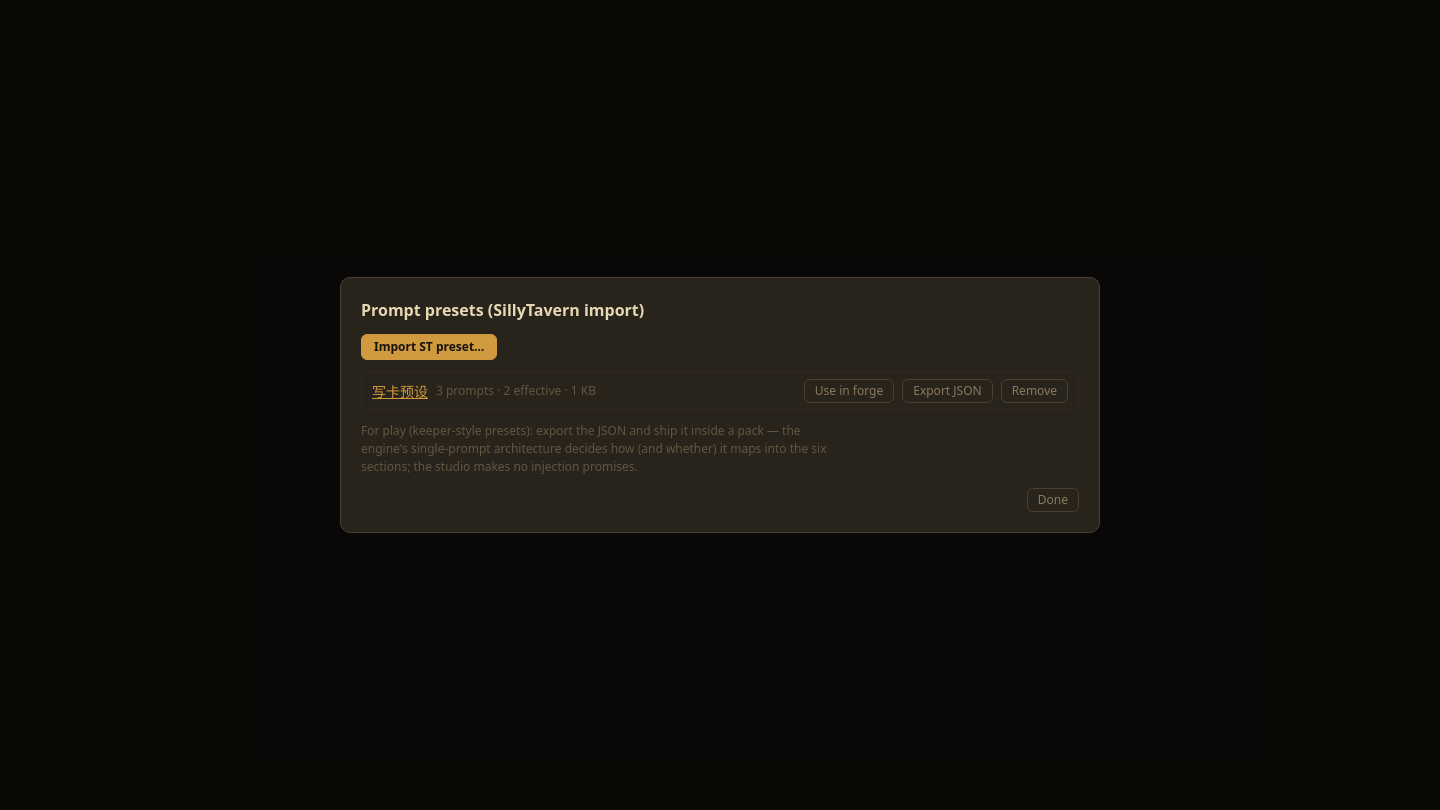
PresetManagerDialog › shows the grouped preview and toggles via the override layer
Click the button "写卡预设" at [400, 391], box [372, 380, 428, 402]
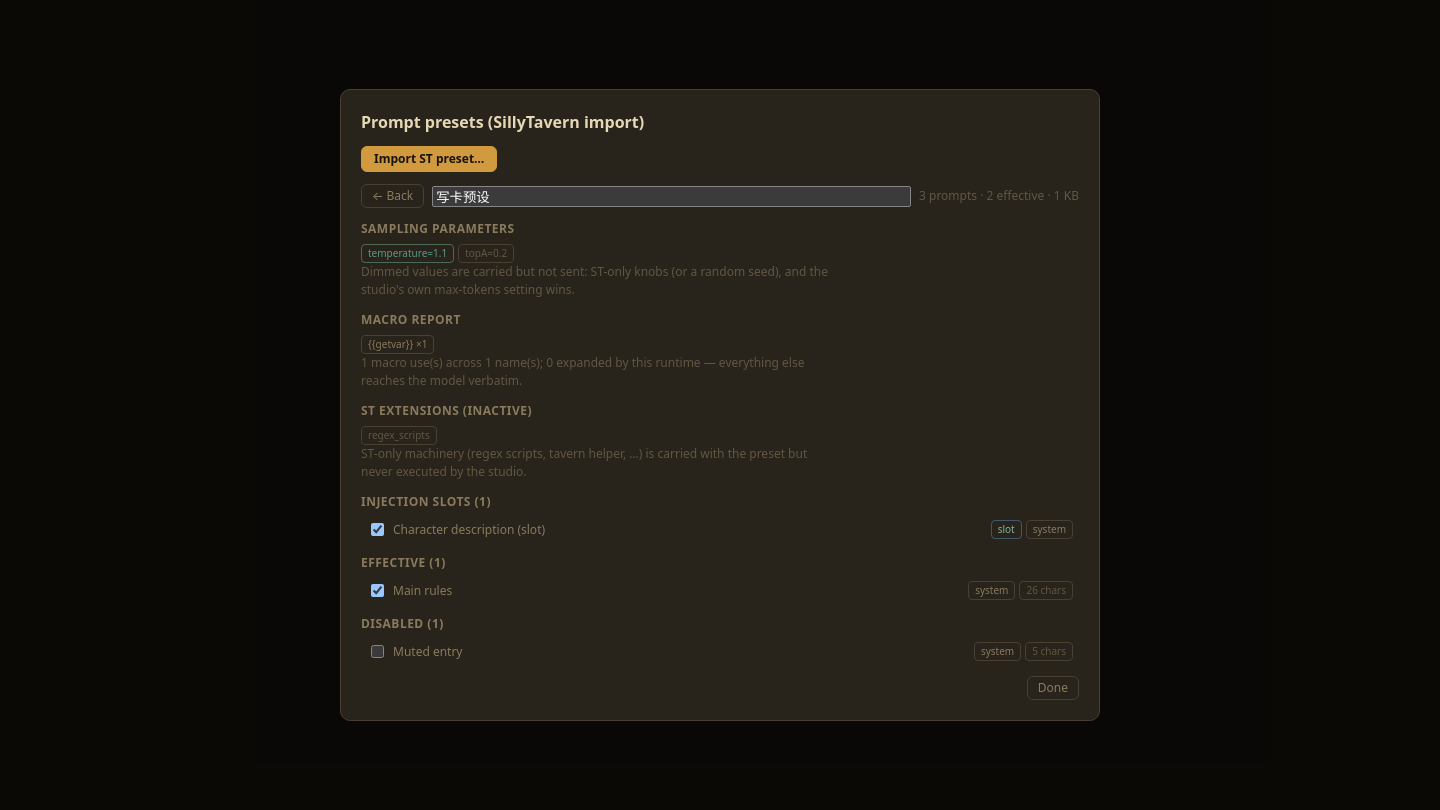
Result: the heading "Injection slots (1)" is shown at [361, 493, 491, 510]
Result: the heading "Effective (1)" is shown at [361, 554, 446, 571]
Result: the heading "Disabled (1)" is shown at [361, 615, 444, 632]
// Toggling the muted entry lands in overrides, not in the imported matrix.
Click the checkbox labelled "Muted entry" at [378, 652], box [371, 645, 384, 658]
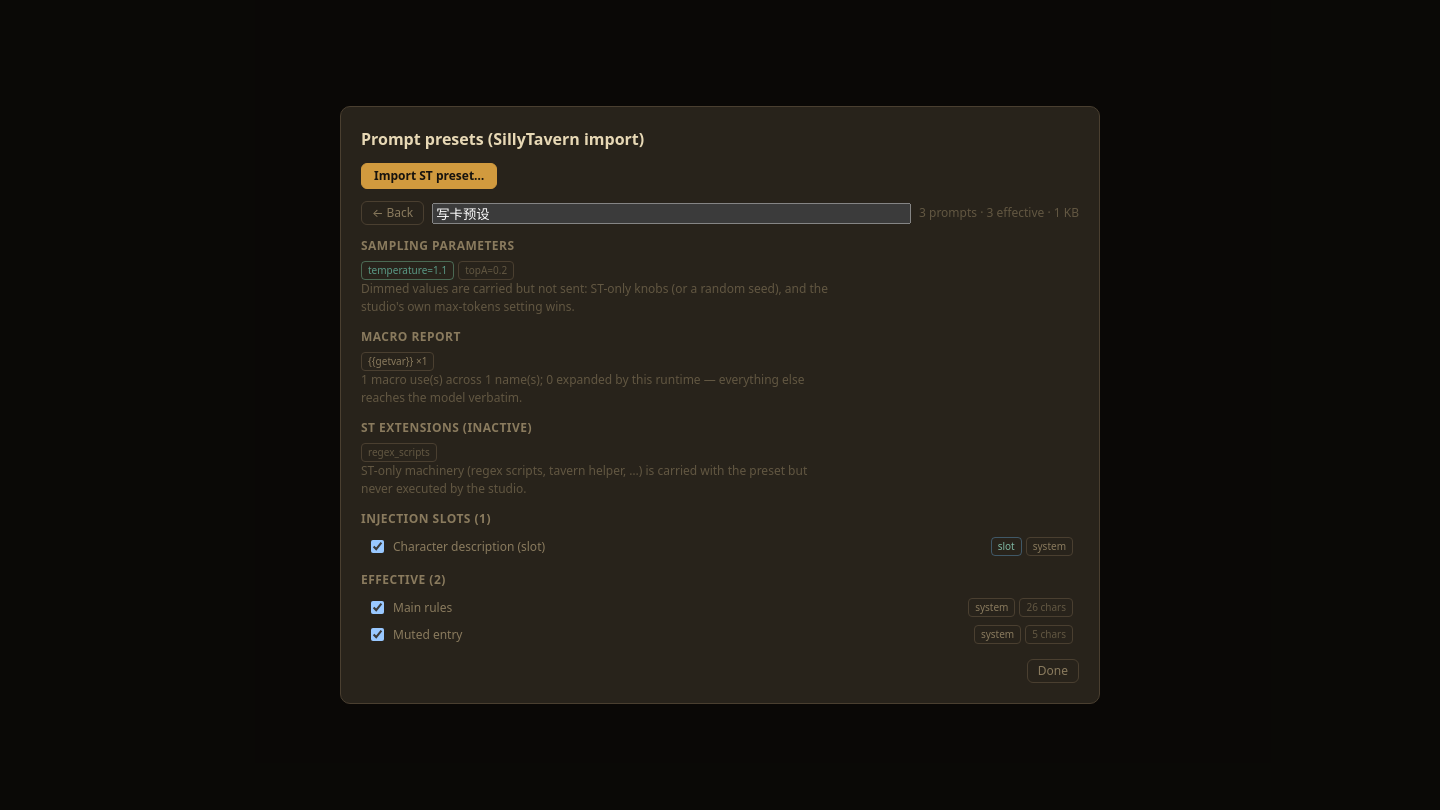
Result: the heading "Effective (2)" is shown at [361, 571, 446, 588]
